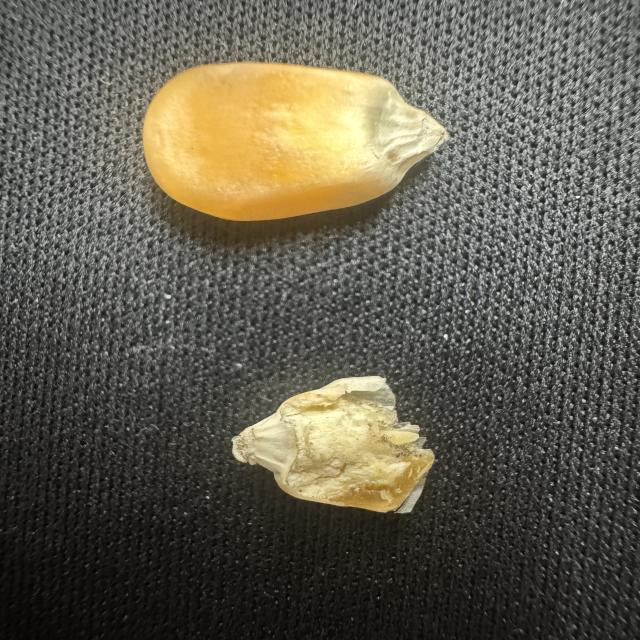Bad-Seed: (208, 372, 441, 523)
Good-Seed: (127, 53, 450, 220)
